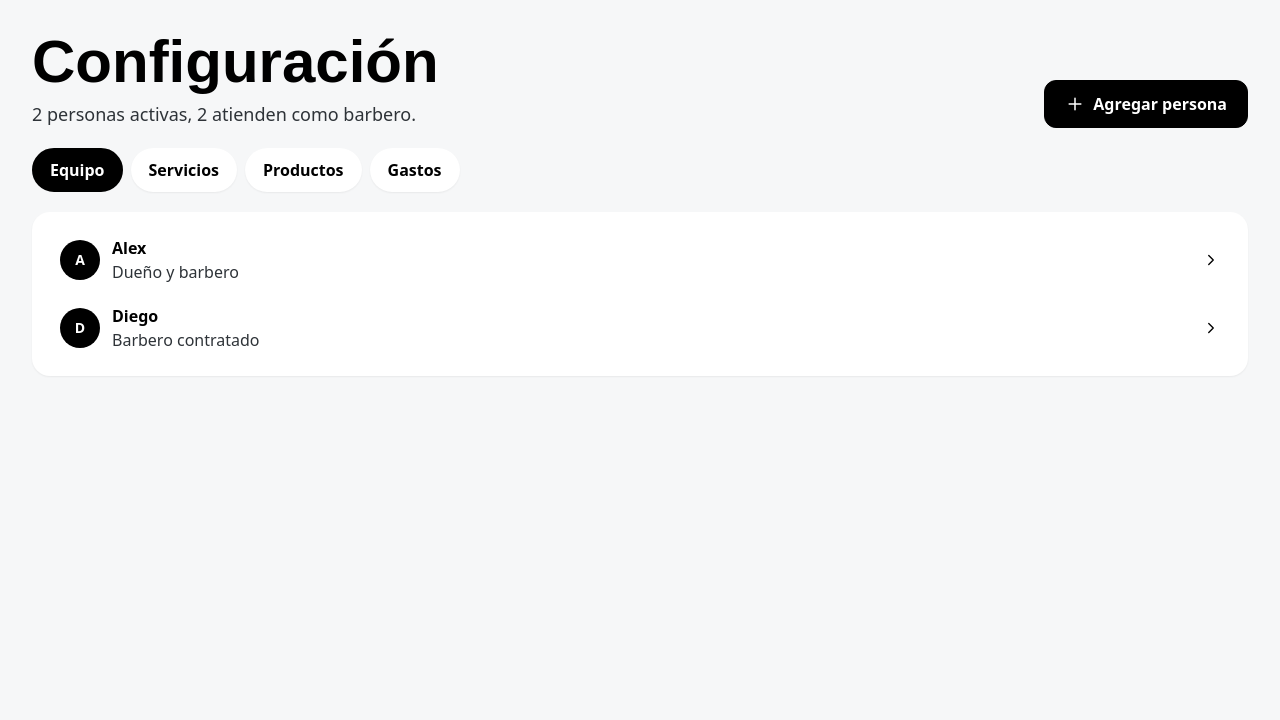
Test: ConfigurationPage › offers to create an access account when every account already has a person
Click the button "Agregar persona": click(1146, 104) 1044,80 -> 1248,128
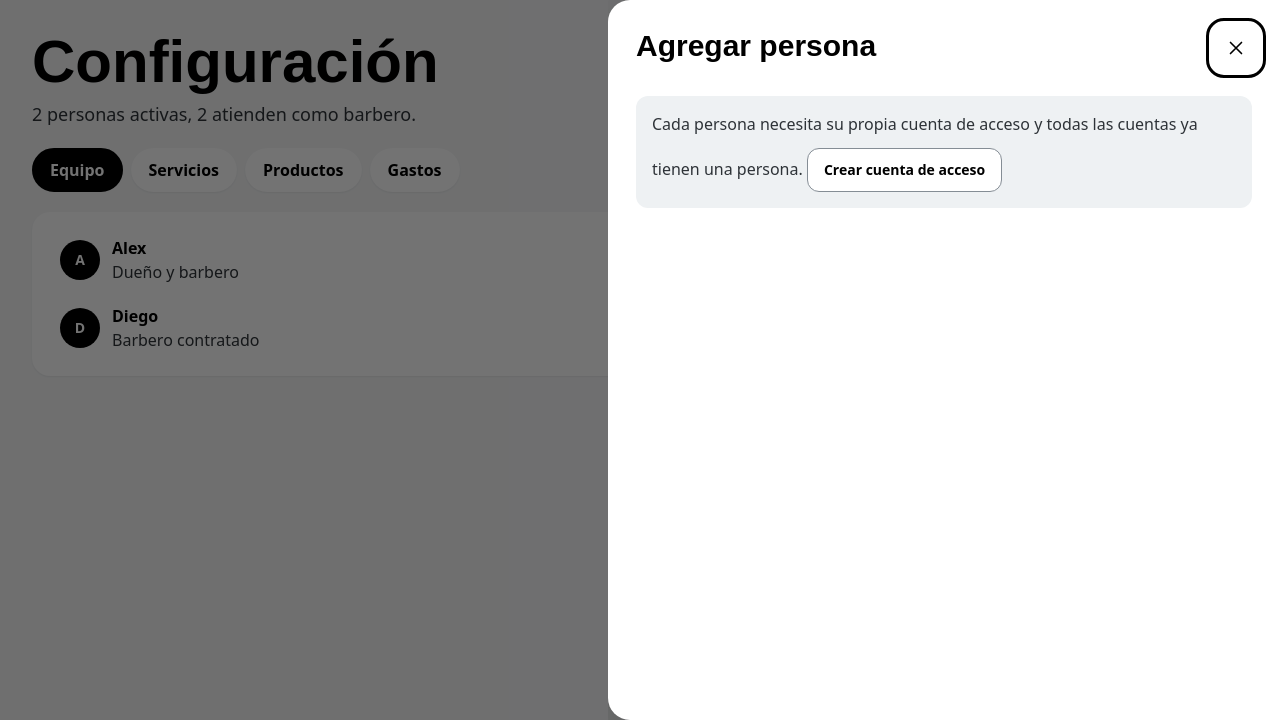
Click the button "Crear cuenta de acceso": click(905, 170) 807,148 -> 1002,192
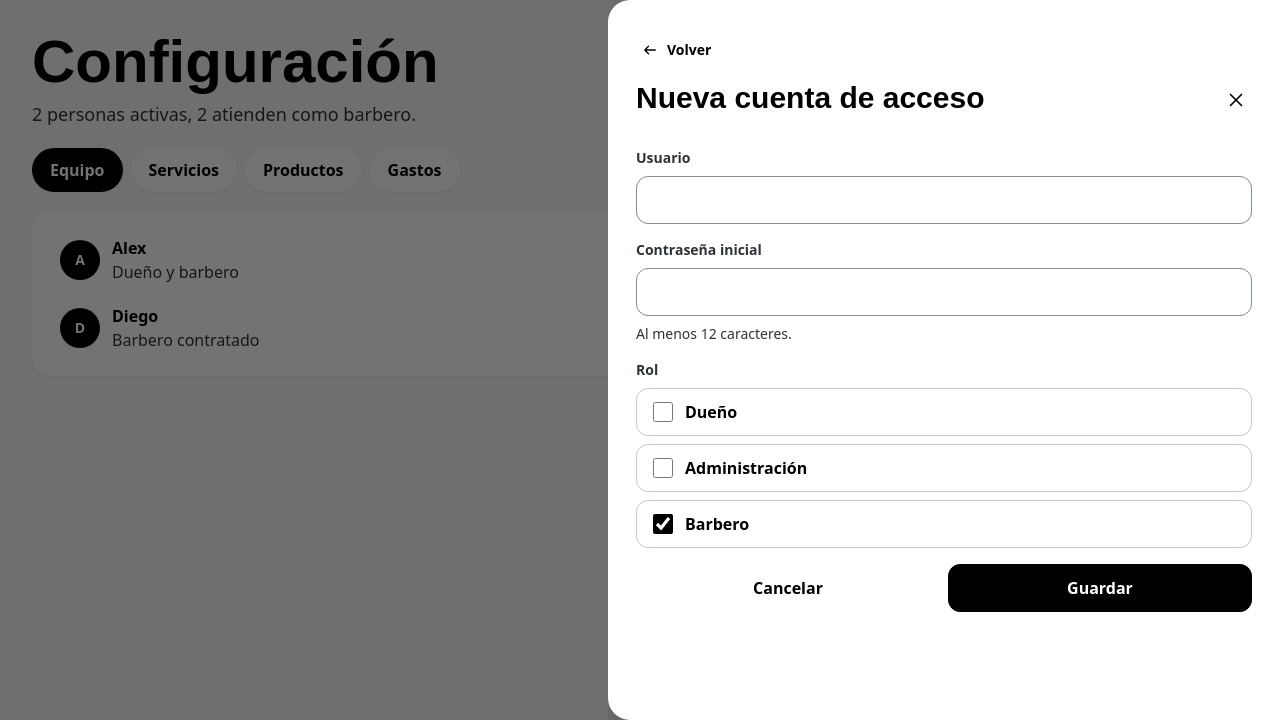
Expected: the checkbox labelled "Barbero" is checked, 653,514 -> 673,534
In the field labelled "Usuario": (944, 200) 636,176 -> 1252,224, type "nueva.cuenta"
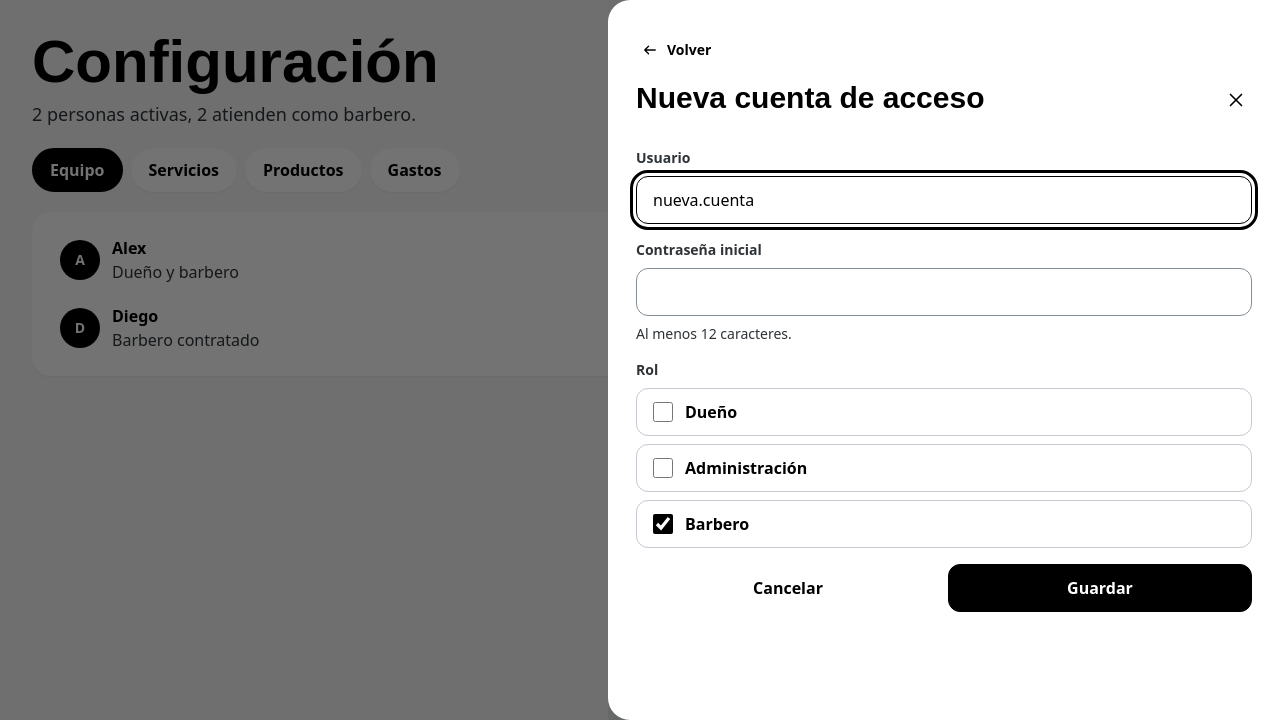
In the password field labelled "Contraseña inicial": (944, 292) 636,268 -> 1252,316, type "Clave-demo!8426"
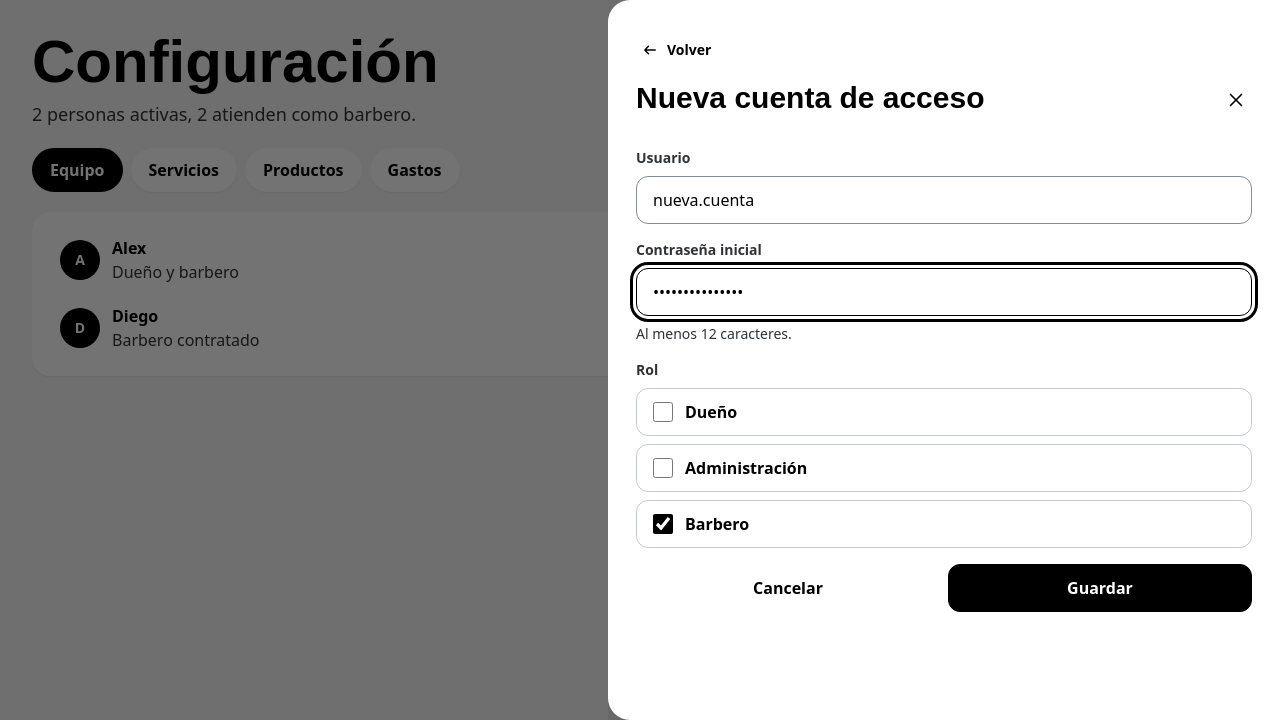
Click the button "Guardar": click(1100, 588) 948,564 -> 1252,612
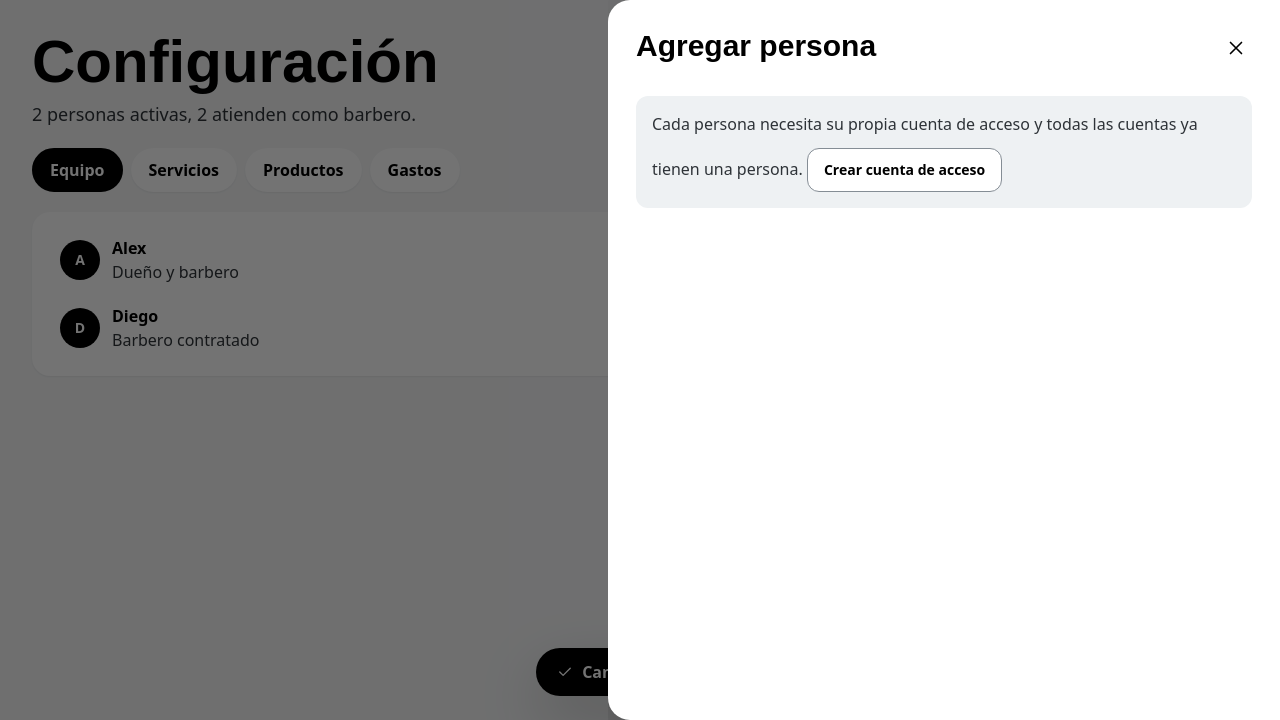
Expected: the dialog "Agregar persona" is shown, 608,0 -> 1279,719
